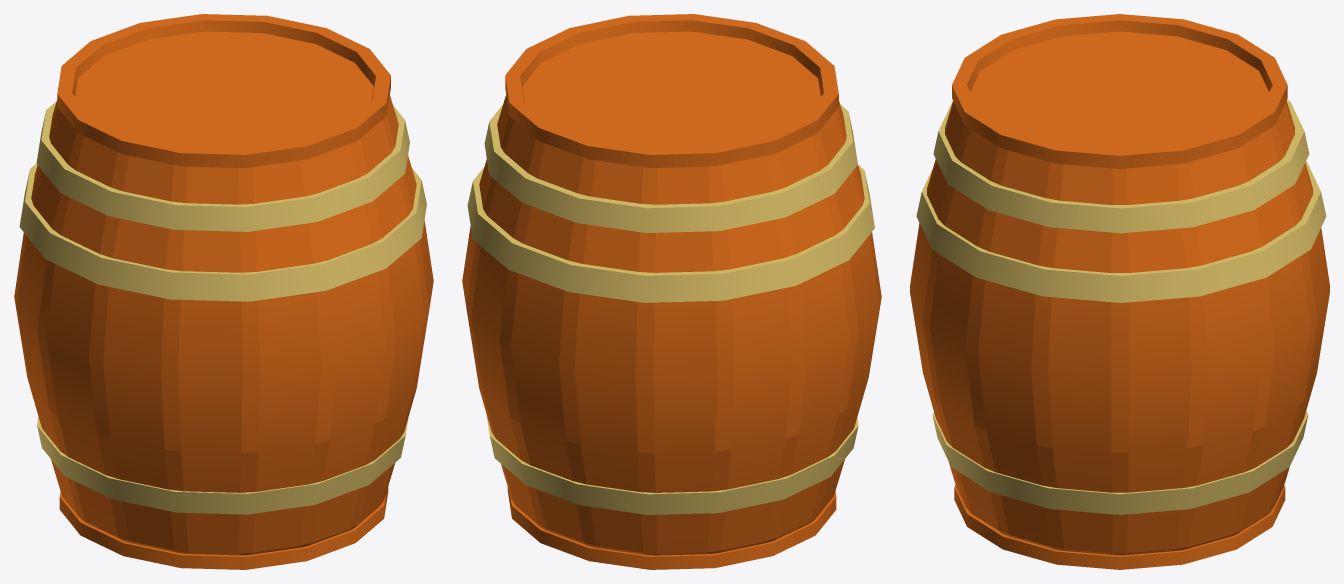
File: WoodBarrel.fbx
3 views of the same model, side by side, from view 1: azimuth 30°, elevation 25°; view 2: azimuth 150°, elevation 25°; view 3: azimuth 270°, elevation 25° (orthographic).
Visible parts, largest first — view 1: WoodBarrel; view 2: WoodBarrel; view 3: WoodBarrel.
Part boxes in pixels (left/top/right/bottom): WoodBarrel: left=14, top=14, right=433, bottom=569; WoodBarrel: left=462, top=14, right=881, bottom=569; WoodBarrel: left=910, top=14, right=1329, bottom=569.
Bounding box in the file's own units: 142 × 155 × 142.
